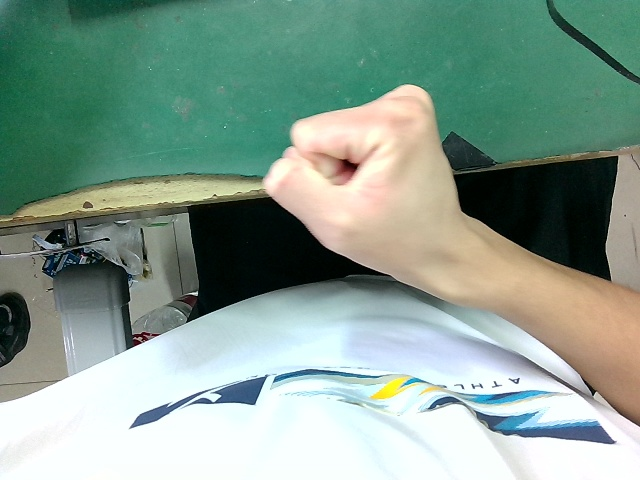stone: (256, 62, 485, 302)
